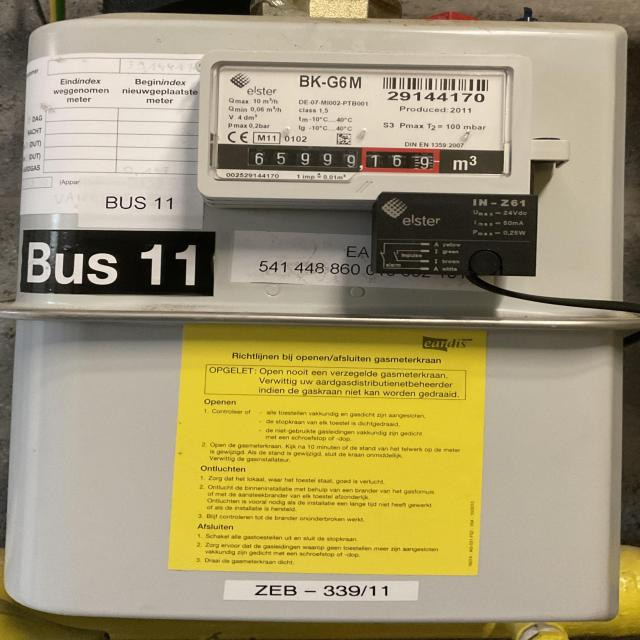gaz_meter: (209, 60, 515, 181)
indication: (241, 145, 446, 173)
